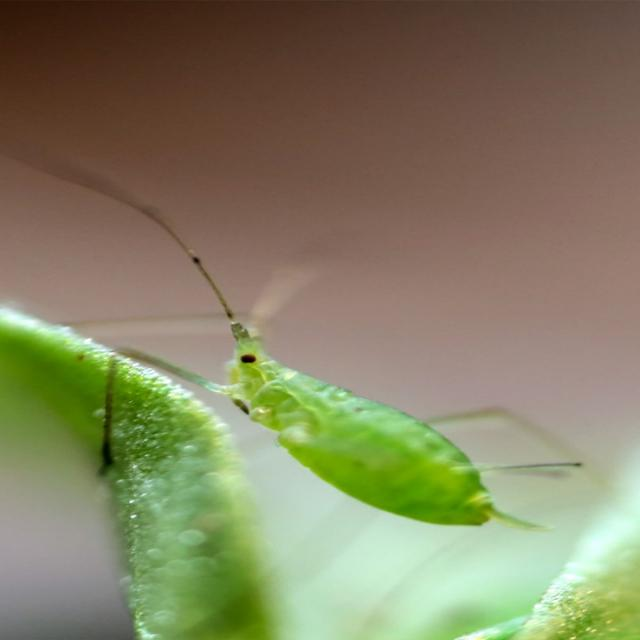Aphid-Grown-: (91, 212, 575, 530)
